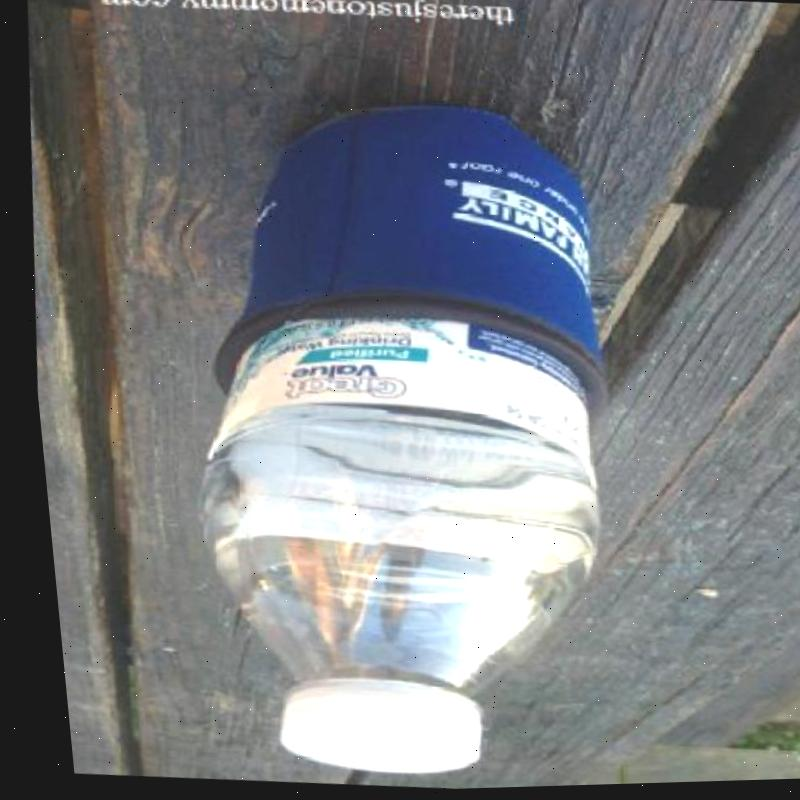botella: (151, 299, 617, 794)
